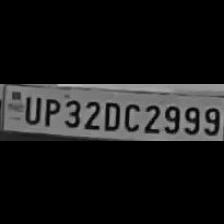2: (82, 96, 100, 130), (142, 100, 160, 132)
3: (61, 95, 80, 127)
9: (200, 102, 220, 136), (160, 101, 180, 133), (180, 102, 200, 134)
C: (121, 100, 141, 132)
D: (100, 97, 119, 130)
P: (41, 94, 60, 126)
U: (21, 94, 41, 124)
